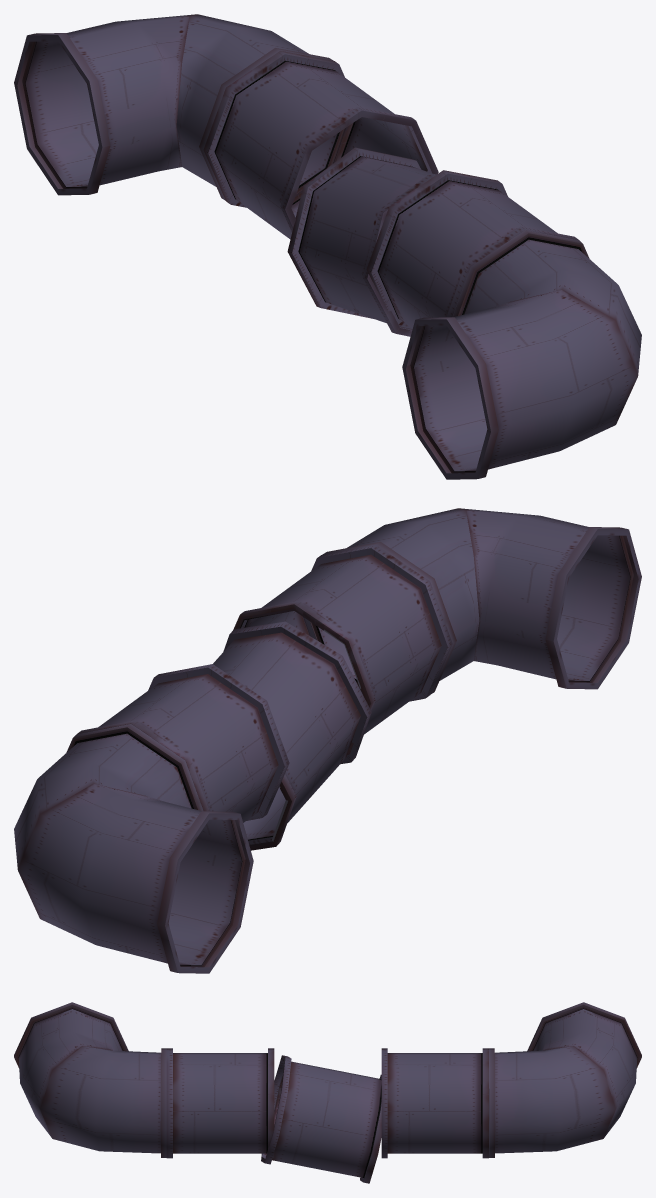
The model's file is Deco_Pipe_003.glb.
The picture shows the model from 3 angles, top to bottom: view 1: azimuth 30°, elevation 25°; view 2: azimuth 150°, elevation 25°; view 3: azimuth 270°, elevation 25°; orthographic projection. The views are drawn at different scales.
Parts seen in each view (by area): view 1: Deco_Pipe.003; view 2: Deco_Pipe.003; view 3: Deco_Pipe.003.
Part boxes in pixels (x1,y1,x2,y2): Deco_Pipe.003: (14, 14, 641, 479); Deco_Pipe.003: (14, 508, 641, 973); Deco_Pipe.003: (14, 1002, 641, 1183).
Bounding box in the file's own units: 3.22 × 2.7 × 11.7.
Materials: 1 (1 with a texture image).
